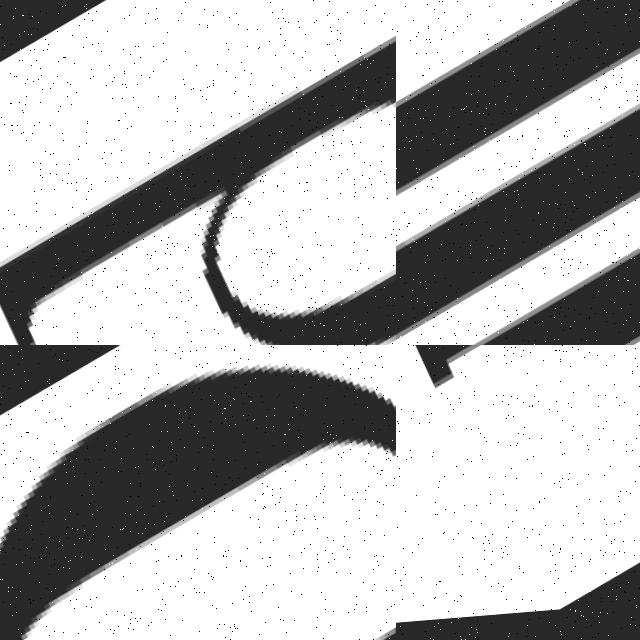D: (0, 0, 396, 345)
I: (396, 345, 640, 497)
M: (396, 0, 640, 345)
O: (0, 365, 396, 640)
